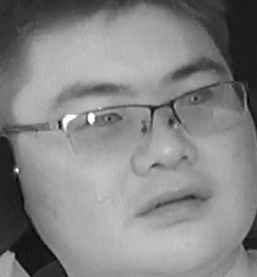eye: (178, 86, 214, 106), (95, 109, 128, 127)
glass: (169, 81, 248, 137), (63, 106, 154, 151)
mouth: (135, 184, 211, 222)
